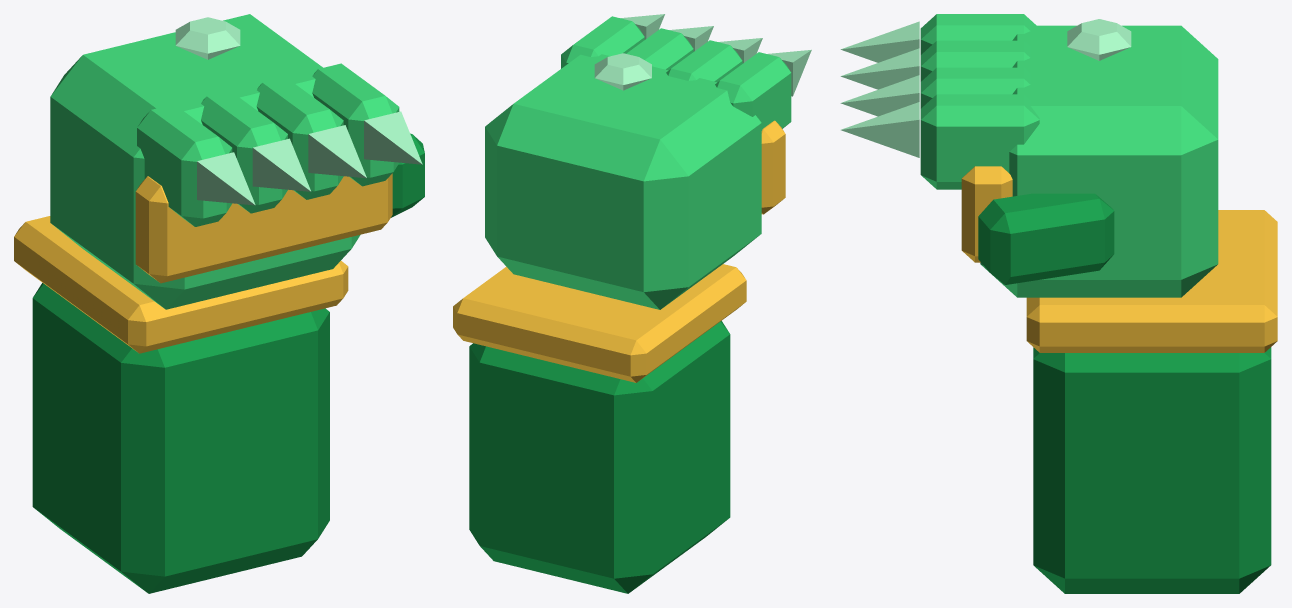
The model's file is EmeraldGauntlet.fbx.
3 views of the same model, side by side, from view 1: azimuth 30°, elevation 25°; view 2: azimuth 150°, elevation 25°; view 3: azimuth 270°, elevation 25° (orthographic). The views are drawn at different scales.
Parts seen in each view (by area): view 1: EmeraldGauntlet; view 2: EmeraldGauntlet; view 3: EmeraldGauntlet.
Boxes of the visible parts, bbox=[...] form: EmeraldGauntlet: bbox=[14, 14, 424, 593]; EmeraldGauntlet: bbox=[453, 14, 811, 593]; EmeraldGauntlet: bbox=[840, 14, 1277, 593].
Size of the model in its own units: 1.26 by 2.21 by 1.65.
1 material, 1 textured.
